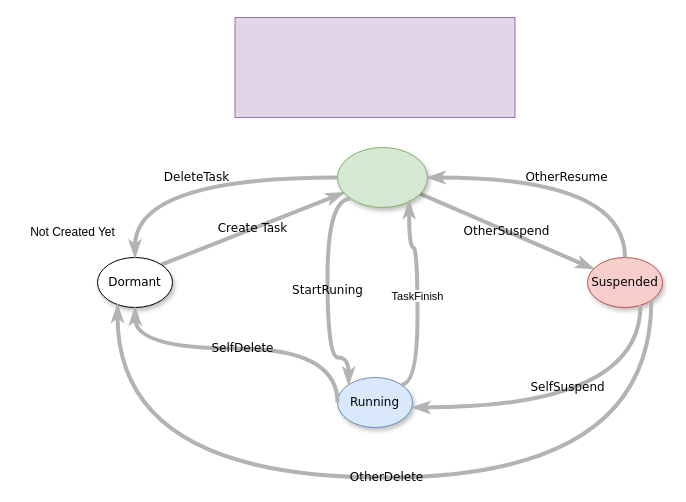
The diagram is 686 pixels wide and 502 high, and some of its shapes have lost their labels. The centre of each missing label's shape, as x and y in pixels:
"Ready" goes at pixel 383 178.
"Scheduler : Task State" goes at pixel 374 67.
